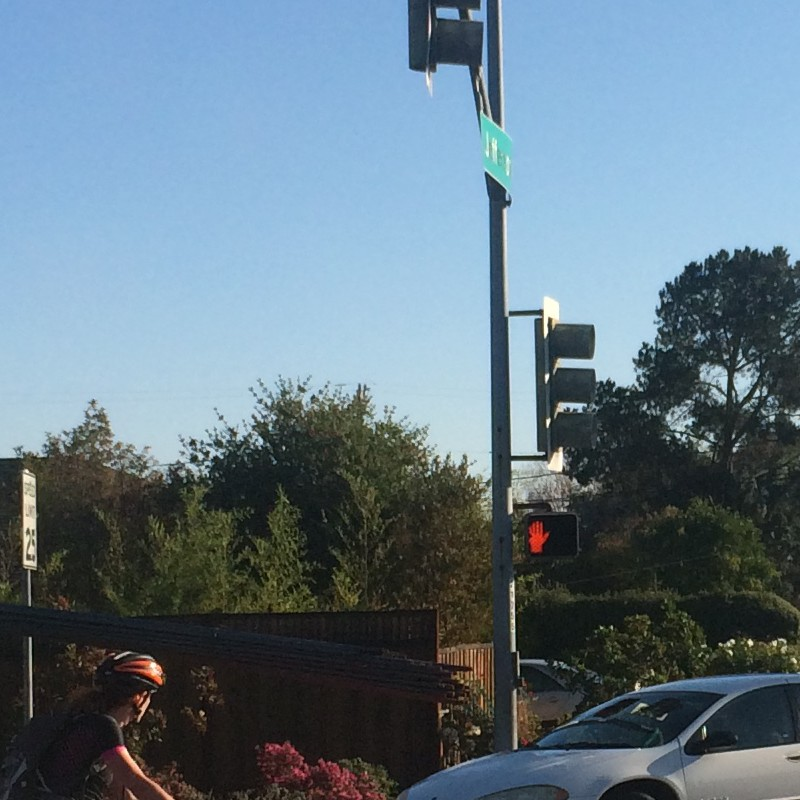stop: (522, 510, 582, 560)
